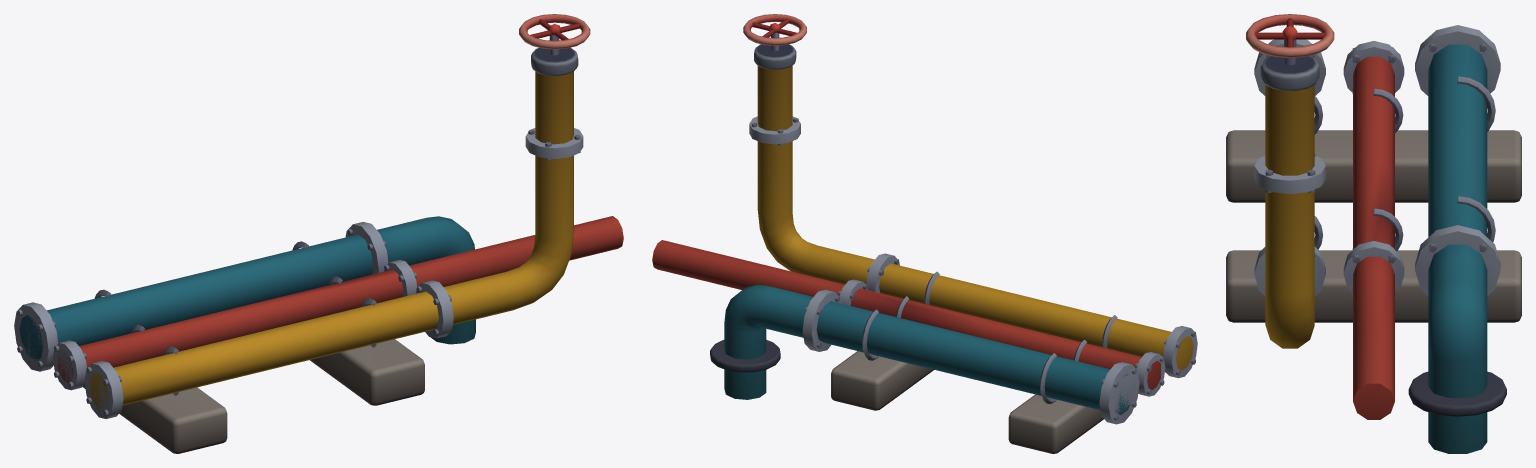
The model's file is tuyaux.glb.
3 renders of one model, left to right at view 1: azimuth 30°, elevation 25°; view 2: azimuth 150°, elevation 25°; view 3: azimuth 270°, elevation 25°, orthographic. The views are drawn at different scales.
Visible parts, largest first — view 1: tuyaux; view 2: tuyaux; view 3: tuyaux.
Boxes of the visible parts, bbox=[...] form: tuyaux: bbox=[14, 14, 623, 453]; tuyaux: bbox=[652, 14, 1197, 453]; tuyaux: bbox=[1226, 14, 1521, 453].
Bounding box in the file's own units: 3.22 × 1.95 × 1.2.
